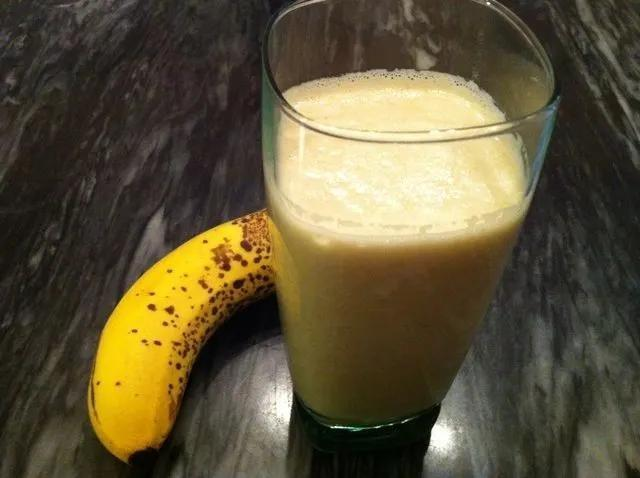glass-normal: (259, 0, 573, 439)
